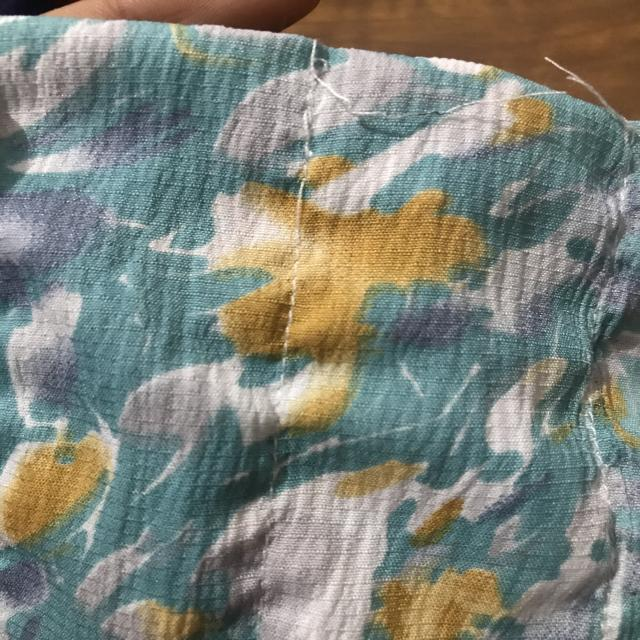skip: (289, 171, 322, 242)
